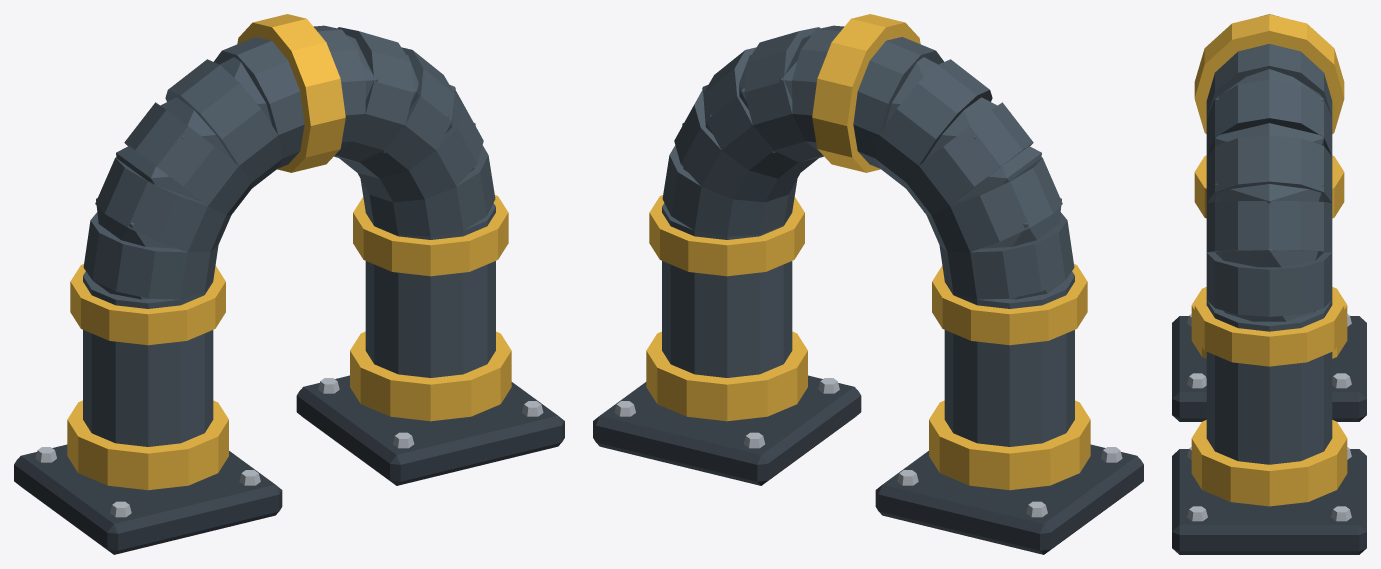
Rendered from Prop_BentPipe.fbx.
3 renders of one model, left to right at view 1: azimuth 30°, elevation 25°; view 2: azimuth 150°, elevation 25°; view 3: azimuth 270°, elevation 25°, orthographic. The views are drawn at different scales.
Parts seen in each view (by area): view 1: Frame, Amber_Metal, FrameDark, SteelLight; view 2: Frame, Amber_Metal, FrameDark, SteelLight; view 3: Frame, Amber_Metal, FrameDark, SteelLight.
Boxes of the visible parts, x1=… form: Frame: x1=83, y1=25, x2=495, y2=446; Amber_Metal: x1=67, y1=14, x2=511, y2=490; FrameDark: x1=14, y1=375, x2=564, y2=554; SteelLight: x1=35, y1=378, x2=543, y2=517; Frame: x1=662, y1=25, x2=1074, y2=446; Amber_Metal: x1=646, y1=14, x2=1090, y2=490; FrameDark: x1=593, y1=375, x2=1143, y2=554; SteelLight: x1=614, y1=378, x2=1122, y2=517; Frame: x1=1206, y1=14, x2=1332, y2=464; Amber_Metal: x1=1191, y1=14, x2=1347, y2=506; FrameDark: x1=1172, y1=316, x2=1366, y2=554; SteelLight: x1=1187, y1=314, x2=1351, y2=521.
Size of the model in its own units: 3.4 by 3.15 by 1.3.
